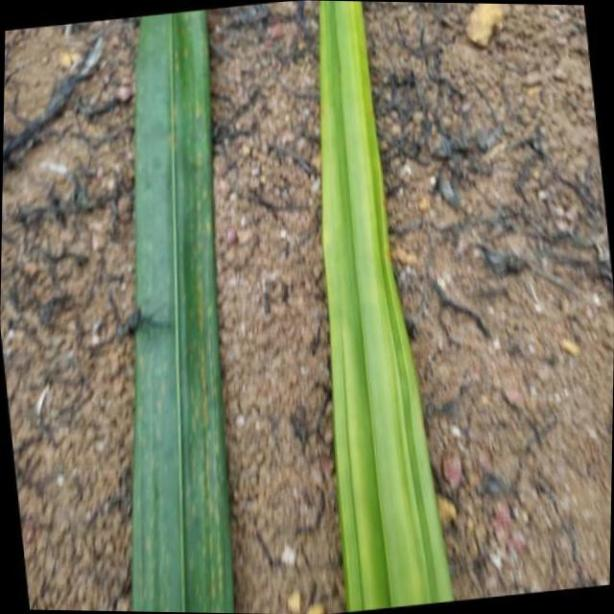nitrogen: (313, 0, 458, 614)
